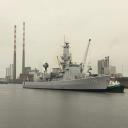Fragata: (24, 41, 114, 96)
